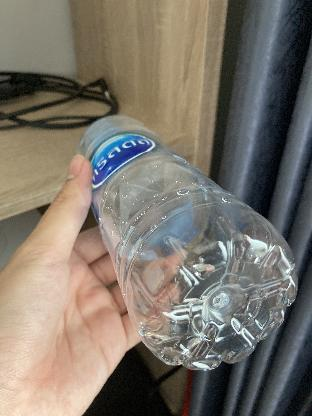Plastic Bottle: (75, 112, 302, 378)
